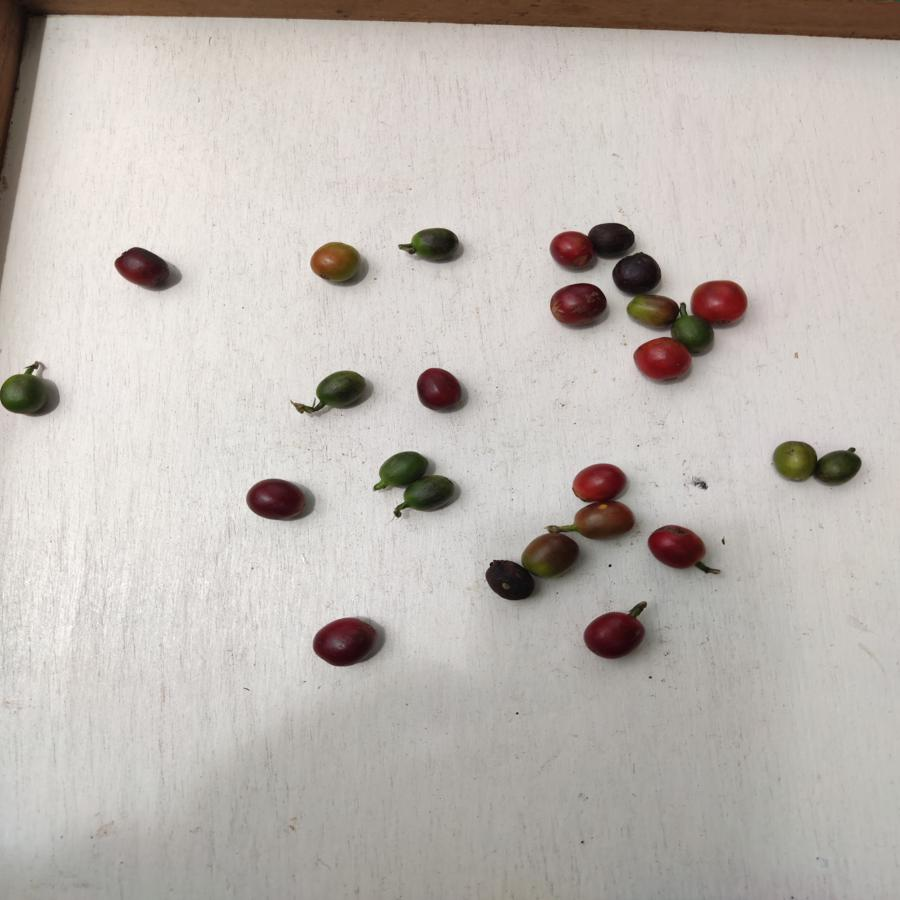Inmaduro: (308, 369, 367, 412), (1, 369, 49, 417), (409, 224, 462, 264), (378, 447, 423, 492), (400, 476, 454, 512), (815, 447, 863, 487), (677, 315, 713, 353)
Maduro: (648, 522, 707, 574), (633, 336, 693, 385), (691, 279, 751, 327), (569, 462, 628, 504), (547, 229, 589, 272)
Pinton: (523, 531, 581, 577), (309, 239, 364, 283), (771, 437, 821, 484), (571, 503, 634, 538), (621, 293, 679, 330), (624, 293, 676, 330), (627, 292, 678, 328)
Sobremaduro: (581, 610, 644, 662), (312, 618, 376, 669), (244, 477, 306, 524), (549, 280, 608, 327), (114, 246, 171, 291), (414, 367, 463, 412), (609, 253, 663, 293), (486, 561, 534, 603), (592, 221, 634, 257)
